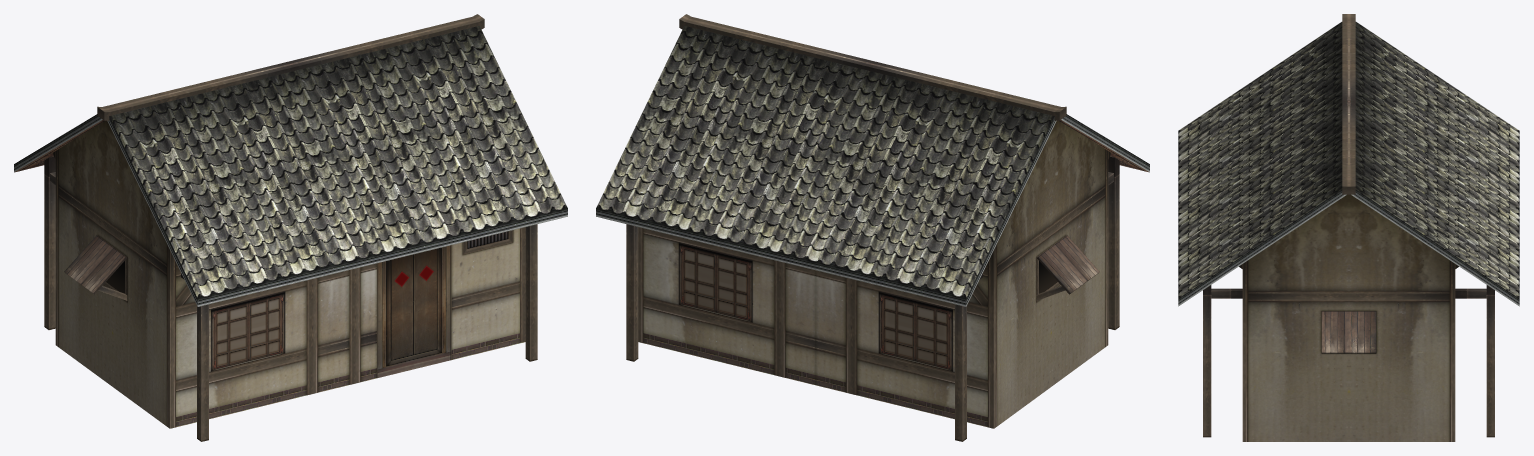
File: ps_house01.FBX
3 views of the same model, side by side, from view 1: azimuth 30°, elevation 25°; view 2: azimuth 150°, elevation 25°; view 3: azimuth 270°, elevation 25° (orthographic). The views are drawn at different scales.
Parts seen in each view (by area): view 1: 01; view 2: 01; view 3: 01.
Boxes of the visible parts, x1,y1,x2,y2 form: 01: (14,14,567,441); 01: (596,14,1149,441); 01: (1178,14,1519,441).
Size of the model in its own units: 8012 by 5060 by 6005.
2 materials, 2 textured.
